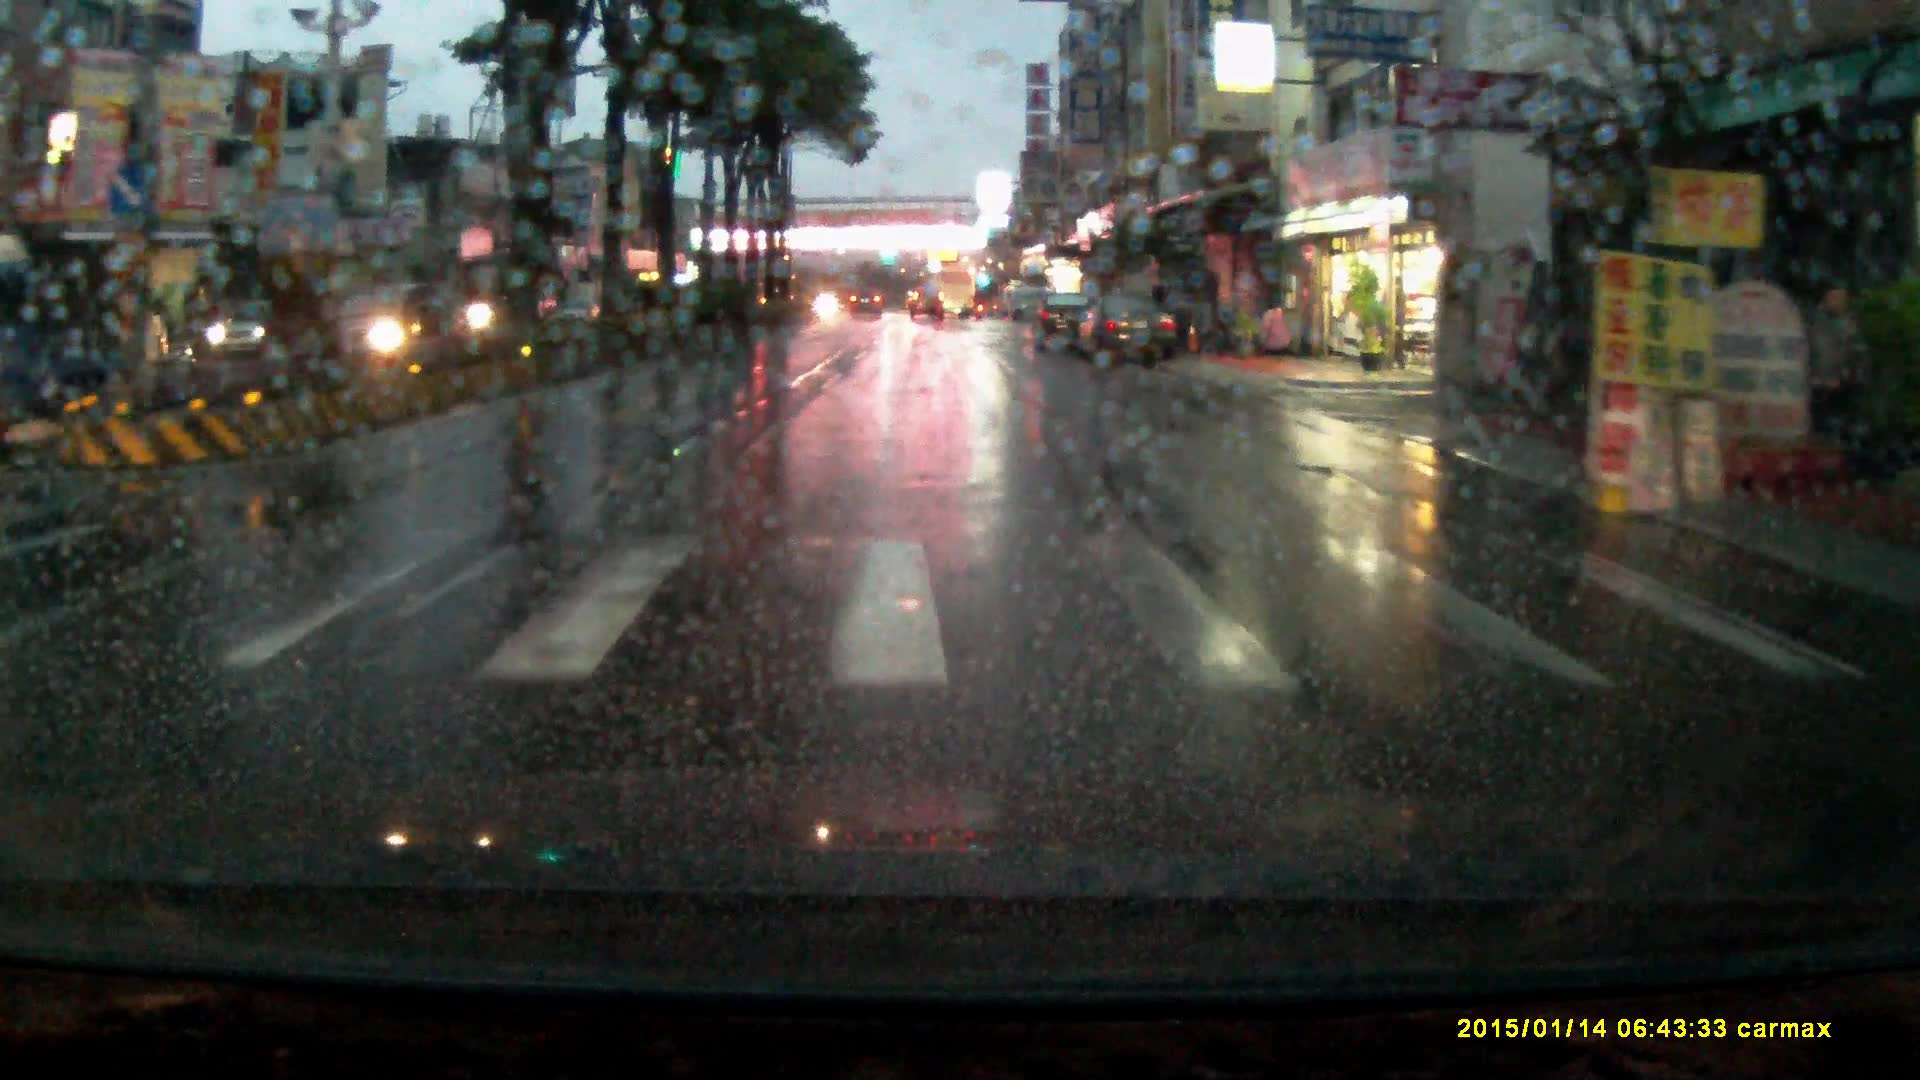rider: (460, 253, 524, 364)
vehicle: (1, 230, 202, 415), (323, 281, 474, 366), (1073, 298, 1181, 374), (206, 306, 279, 365), (1035, 297, 1094, 355), (925, 258, 975, 320), (911, 289, 947, 326), (850, 290, 882, 321)
